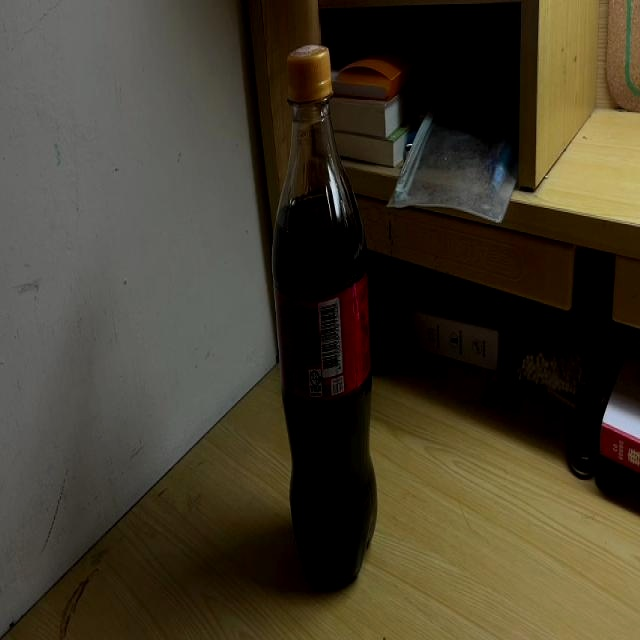Coca-Cola: (272, 43, 380, 586)
